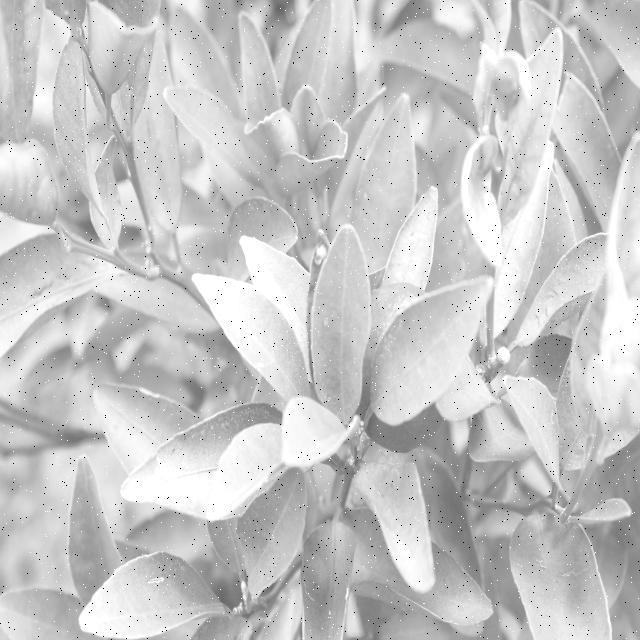blackspot: (544, 230, 604, 307), (384, 205, 437, 282), (268, 338, 302, 392), (362, 467, 404, 508)
